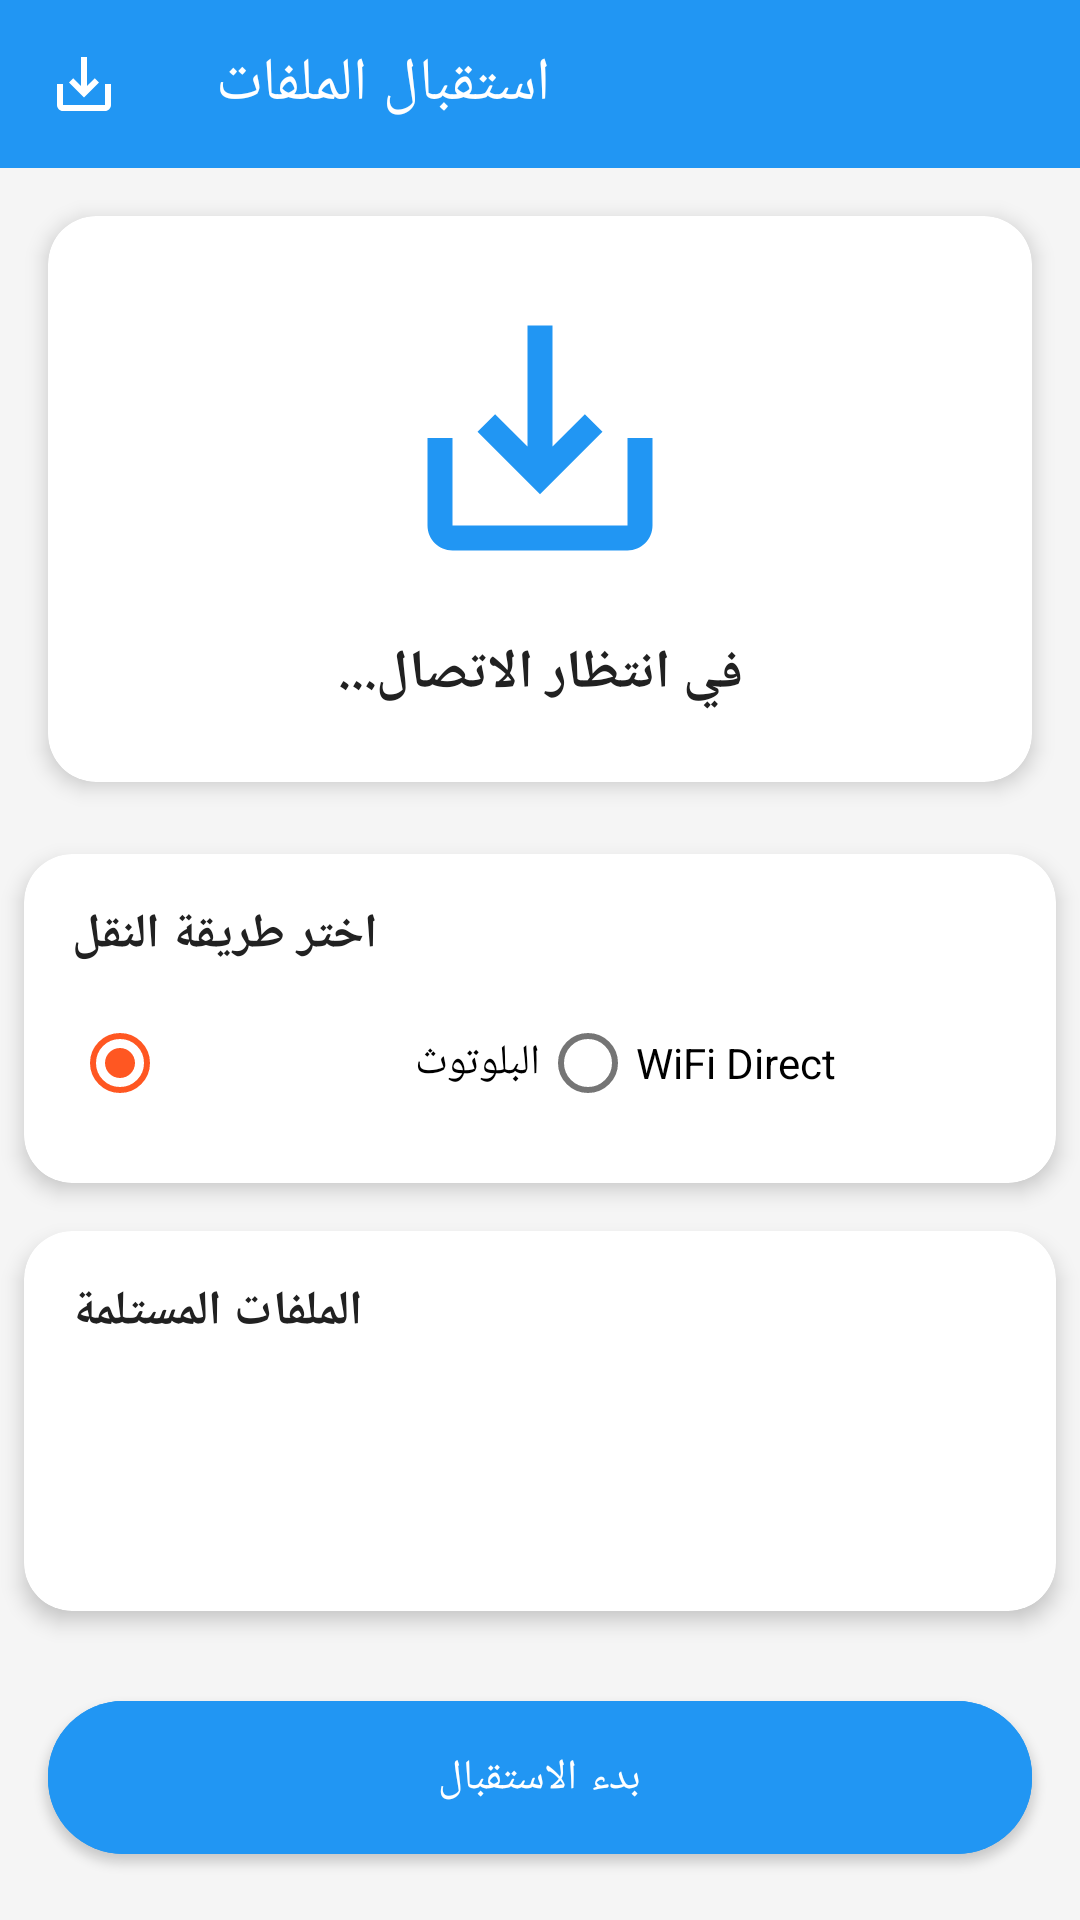

Icons on this 1080 x 1920 Android screen, each with its box as region(x1, y1, x2, y2):
receive: region(427, 325, 653, 551)
